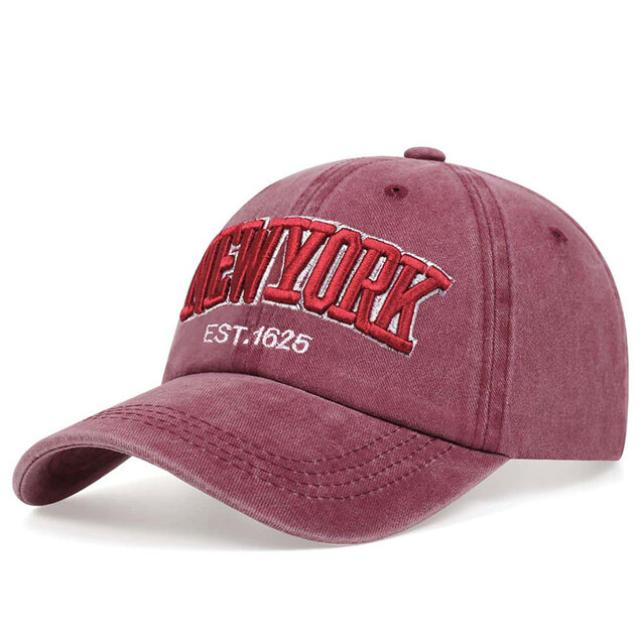Nonhelmet: (11, 142, 629, 546)
